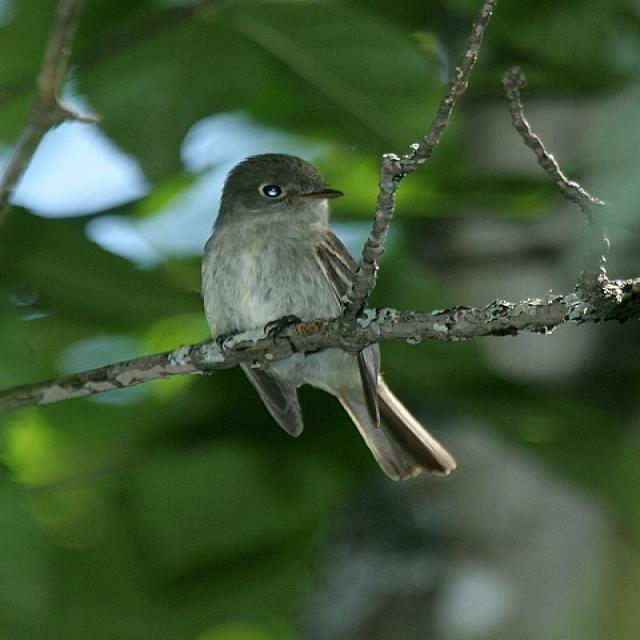bird: (190, 145, 458, 488)
